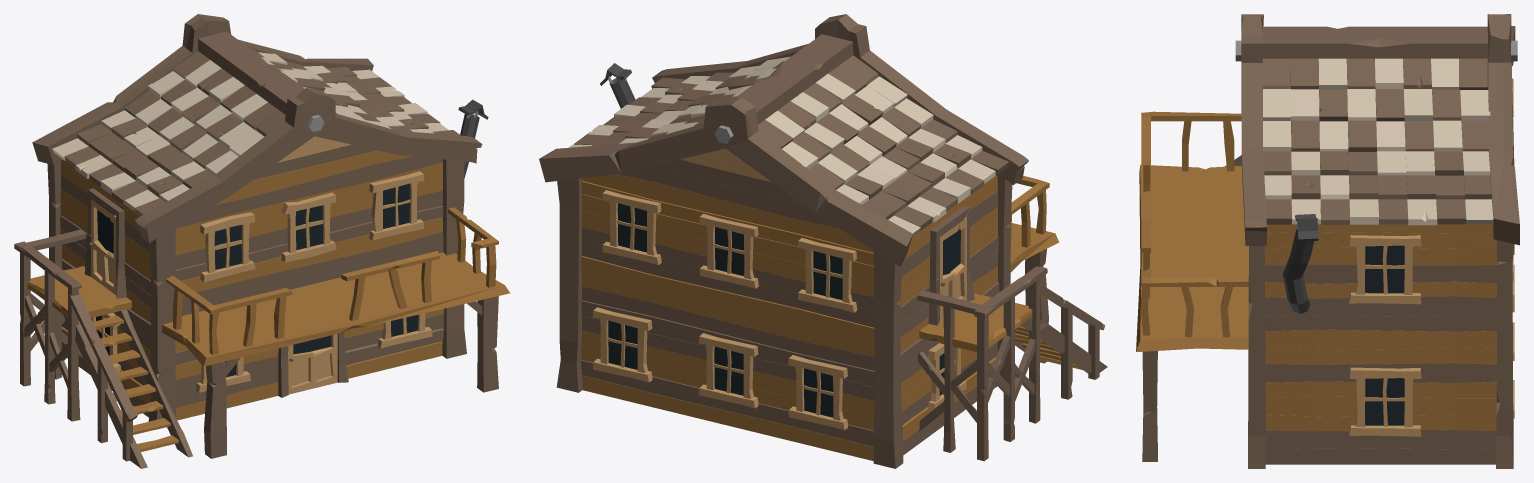
The model's file is Building_Guns_shop.fbx.
The picture shows the model from 3 angles, left to right: view 1: azimuth 30°, elevation 25°; view 2: azimuth 150°, elevation 25°; view 3: azimuth 270°, elevation 25°; orthographic projection. The views are drawn at different scales.
Visible parts, largest first — view 1: Building_Guns_shop; view 2: Building_Guns_shop; view 3: Building_Guns_shop.
Part boxes in pixels (x1,y1,x2,y2): Building_Guns_shop: (14, 14, 509, 468); Building_Guns_shop: (539, 14, 1107, 468); Building_Guns_shop: (1136, 14, 1519, 468).
Size of the model in its own units: 1109 by 743 by 773.
